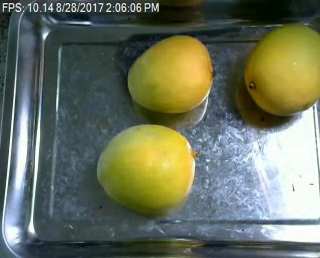Mango: (94, 124, 198, 216), (242, 23, 320, 116), (126, 35, 213, 117)
